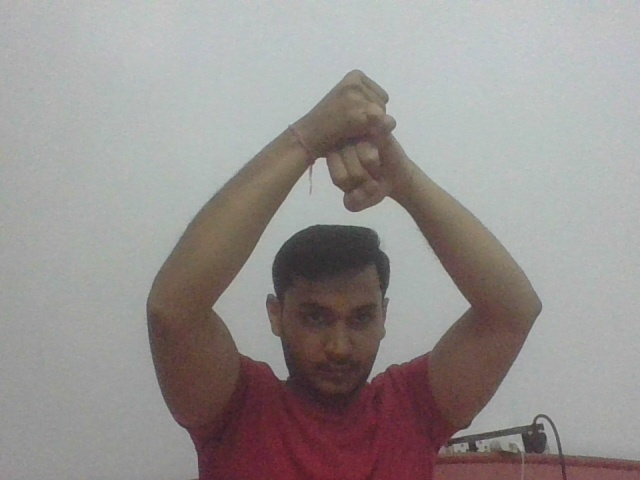S: (323, 66, 402, 213)
